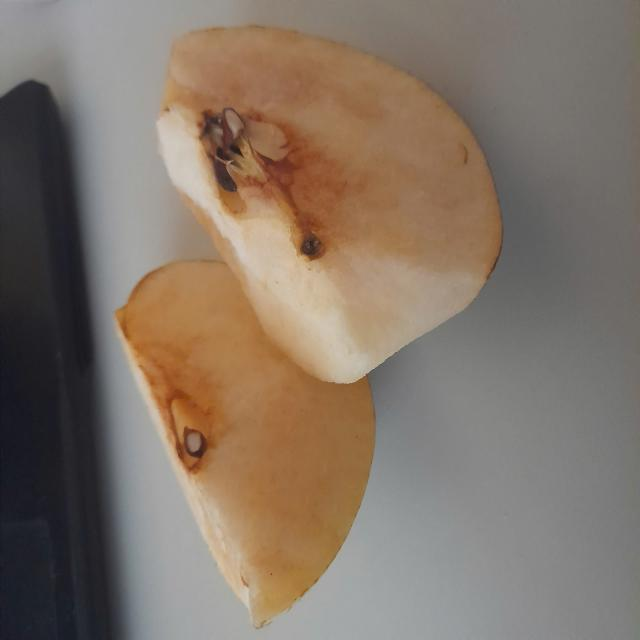Le: (115, 40, 505, 623)
